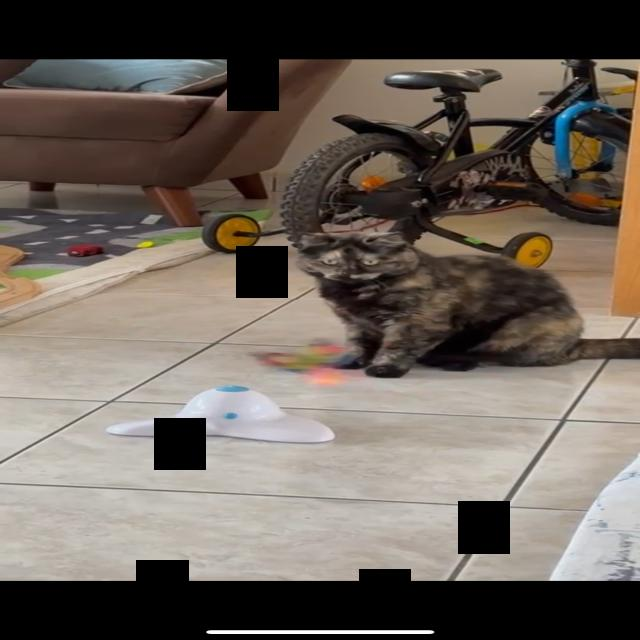authorized: (291, 230, 638, 378)
